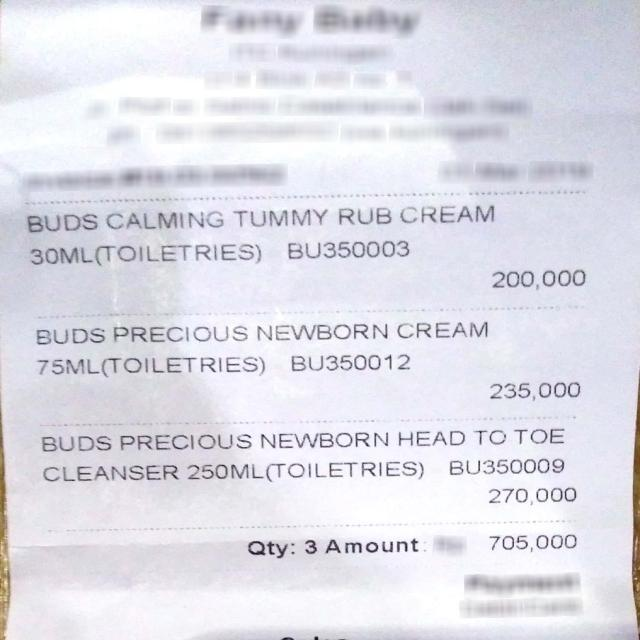kertas: (3, 0, 637, 640)
